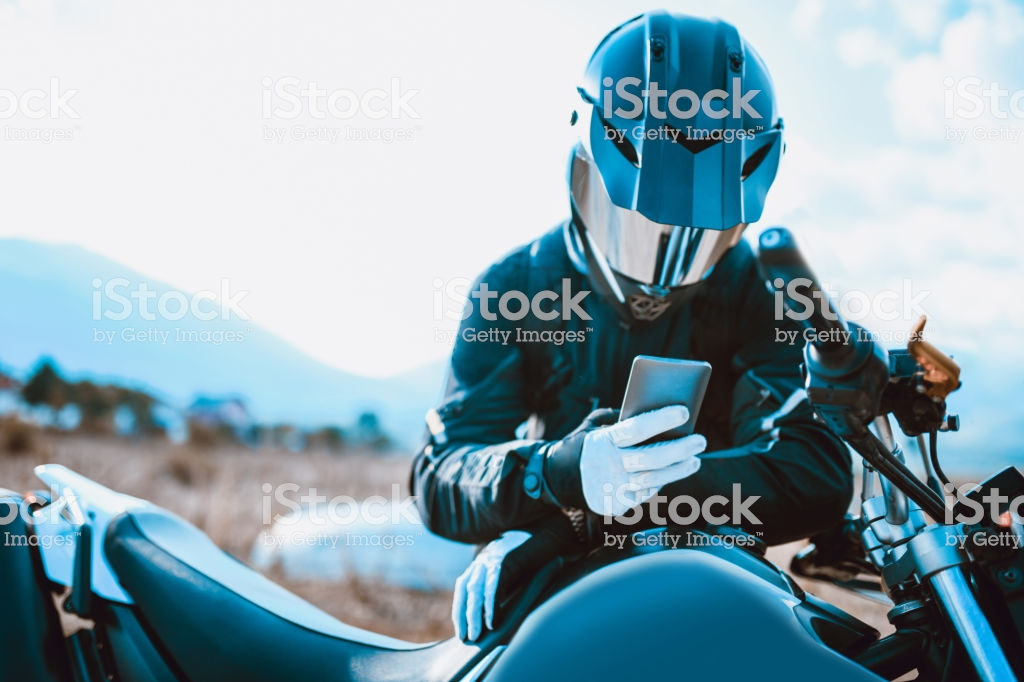helmet: (554, 30, 780, 284)
